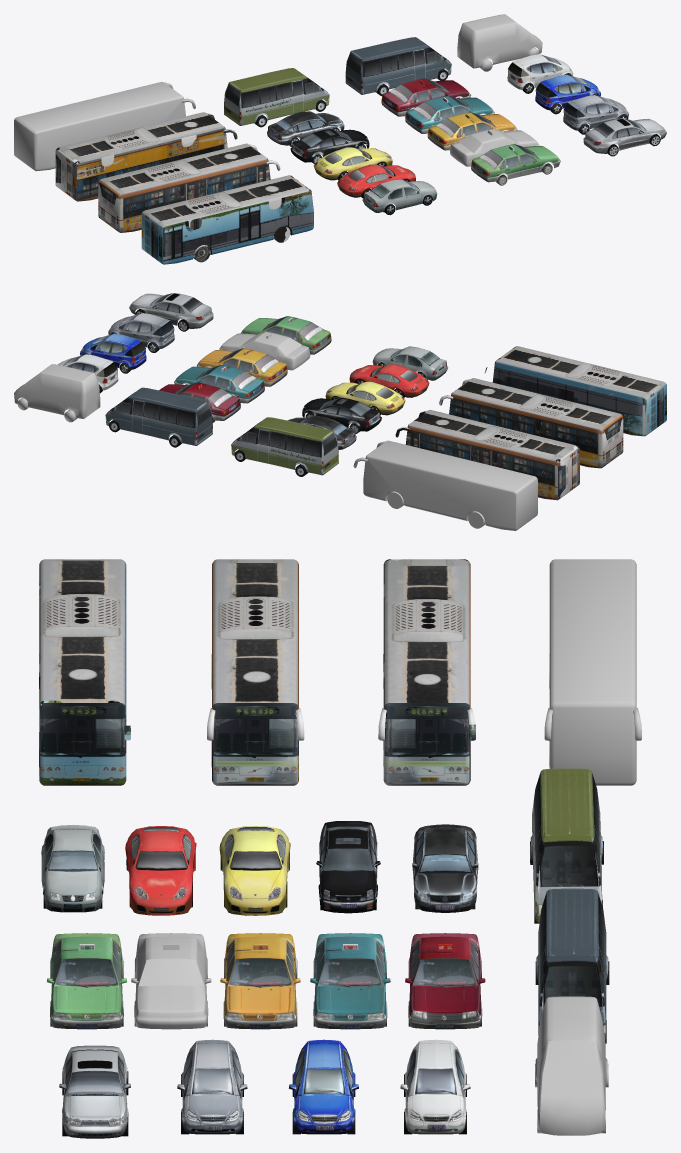
The model's file is car.DAE.
3 views of the same model, one above another, from view 1: azimuth 30°, elevation 25°; view 2: azimuth 150°, elevation 25°; view 3: azimuth 270°, elevation 25° (orthographic). The views are drawn at different scales.
Visible parts, largest first — view 1: bus04-Pivot, bus03-Pivot, bus02-Pivot, bus01-Pivot, ltmbus_a-Pivot, ltmbus_a02-Pivot, ltmbus-Pivot, chuzu04-Pivot, saturn-Pivot, BORA-Pivot, chuzu05-Pivot, chuzu01-Pivot (+9 smaller); view 2: bus01-Pivot, bus03-Pivot, bus04-Pivot, bus02-Pivot, ltmbus_a-Pivot, ltmbus_a02-Pivot, ltmbus-Pivot, saturn-Pivot, chuzu01-Pivot, chuzu02-Pivot, chuzu03-Pivot, kdlk02-Pivot (+9 smaller); view 3: bus02-Pivot, bus03-Pivot, bus04-Pivot, bus01-Pivot, ltmbus-Pivot, ltmbus_a-Pivot, ltmbus_a02-Pivot, chuzu01-Pivot, chuzu02-Pivot, chuzu05-Pivot, chuzu03-Pivot, chuzu04-Pivot (+9 smaller).
Part boxes in pixels (box(x1,y1,x2,y2)): bus04-Pivot: box(141, 175, 313, 264); bus03-Pivot: box(98, 143, 280, 232); bus02-Pivot: box(55, 112, 237, 201); bus01-Pivot: box(14, 82, 195, 171); ltmbus_a-Pivot: box(224, 68, 329, 127); ltmbus_a02-Pivot: box(345, 37, 451, 95); ltmbus-Pivot: box(457, 14, 542, 71); chuzu04-Pivot: box(471, 144, 560, 185); saturn-Pivot: box(583, 118, 666, 156); BORA-Pivot: box(362, 179, 437, 215); chuzu05-Pivot: box(381, 78, 471, 116); chuzu01-Pivot: box(405, 96, 494, 133); bus01-Pivot: box(353, 440, 537, 530); bus03-Pivot: box(439, 378, 623, 468); bus04-Pivot: box(484, 346, 666, 436); bus02-Pivot: box(395, 410, 579, 500); ltmbus_a-Pivot: box(231, 417, 338, 476); ltmbus_a02-Pivot: box(105, 387, 212, 447); ltmbus-Pivot: box(14, 364, 100, 422); saturn-Pivot: box(129, 293, 213, 331); chuzu01-Pivot: box(174, 365, 264, 403); chuzu02-Pivot: box(197, 348, 287, 386); chuzu03-Pivot: box(219, 331, 310, 370); kdlk02-Pivot: box(302, 397, 381, 433); bus02-Pivot: box(378, 559, 475, 785); bus03-Pivot: box(207, 559, 304, 785); bus04-Pivot: box(39, 559, 130, 785); bus01-Pivot: box(544, 559, 641, 785); ltmbus-Pivot: box(535, 996, 608, 1135); ltmbus_a-Pivot: box(530, 768, 603, 923); ltmbus_a02-Pivot: box(535, 888, 609, 1043); chuzu01-Pivot: box(310, 933, 390, 1029); chuzu02-Pivot: box(220, 933, 300, 1029); chuzu05-Pivot: box(405, 933, 485, 1029); chuzu03-Pivot: box(131, 933, 211, 1029); chuzu04-Pivot: box(47, 933, 126, 1029).
Size of the model in its own units: 3416 by 292 by 1735.
